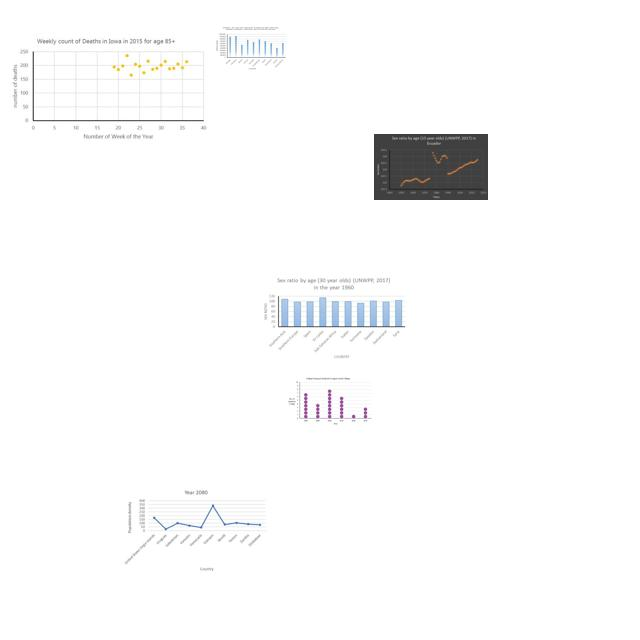Graph: (7, 37, 210, 142), (123, 486, 270, 575), (260, 275, 407, 360), (374, 134, 488, 200), (286, 376, 373, 427), (214, 26, 287, 70)
